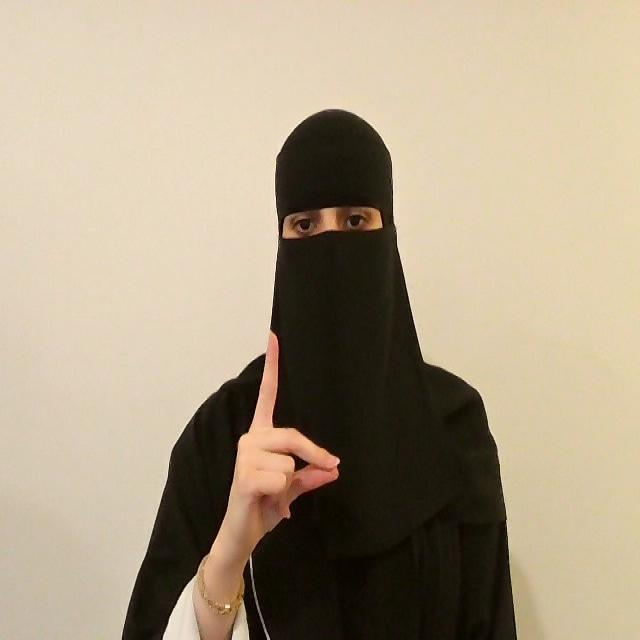emergency: (209, 330, 340, 570)
